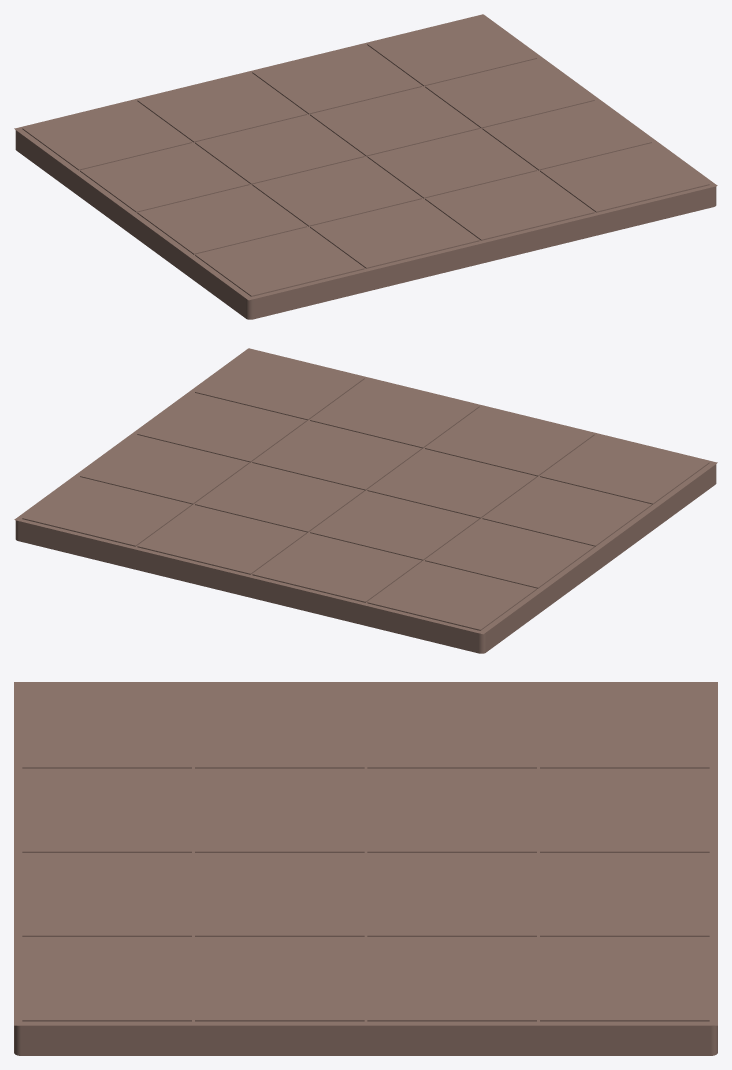
Rendered from SUELO 1.fbx.
The picture shows the model from 3 angles, top to bottom: view 1: azimuth 30°, elevation 25°; view 2: azimuth 150°, elevation 25°; view 3: azimuth 270°, elevation 25°; orthographic projection. The views are drawn at different scales.
Parts seen in each view (by area): view 1: suelo; view 2: suelo; view 3: suelo.
Boxes of the visible parts, box(x1,y1,x2,y2) form: suelo: box(14, 14, 717, 319); suelo: box(14, 348, 717, 653); suelo: box(14, 682, 717, 1055).
Bounding box in the file's own units: 882 × 44.54 × 1018.
